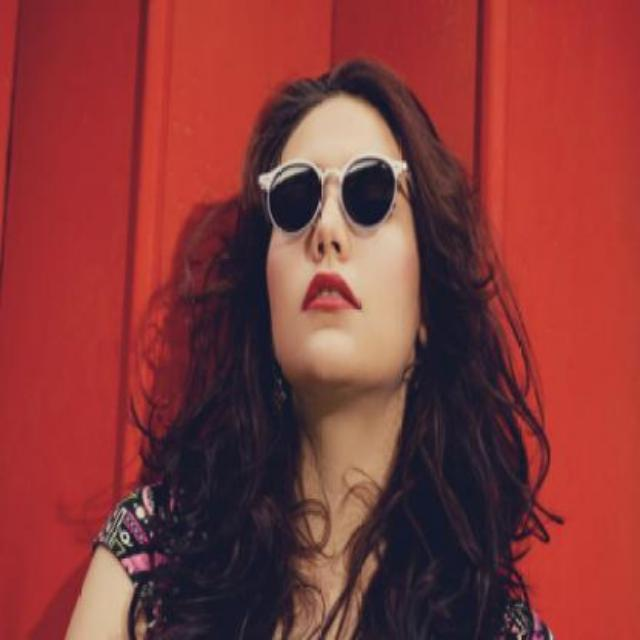sunglasses: (256, 154, 416, 232)
